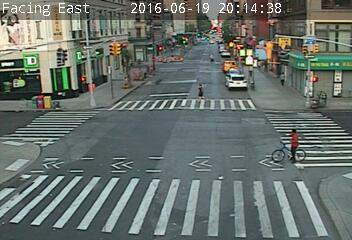neg: (282, 127, 312, 167), (21, 63, 41, 89), (64, 43, 81, 66), (21, 93, 35, 111), (51, 102, 64, 120), (41, 95, 51, 108), (54, 47, 62, 58)
pos: (194, 80, 208, 99), (278, 71, 290, 88), (208, 51, 217, 63)
